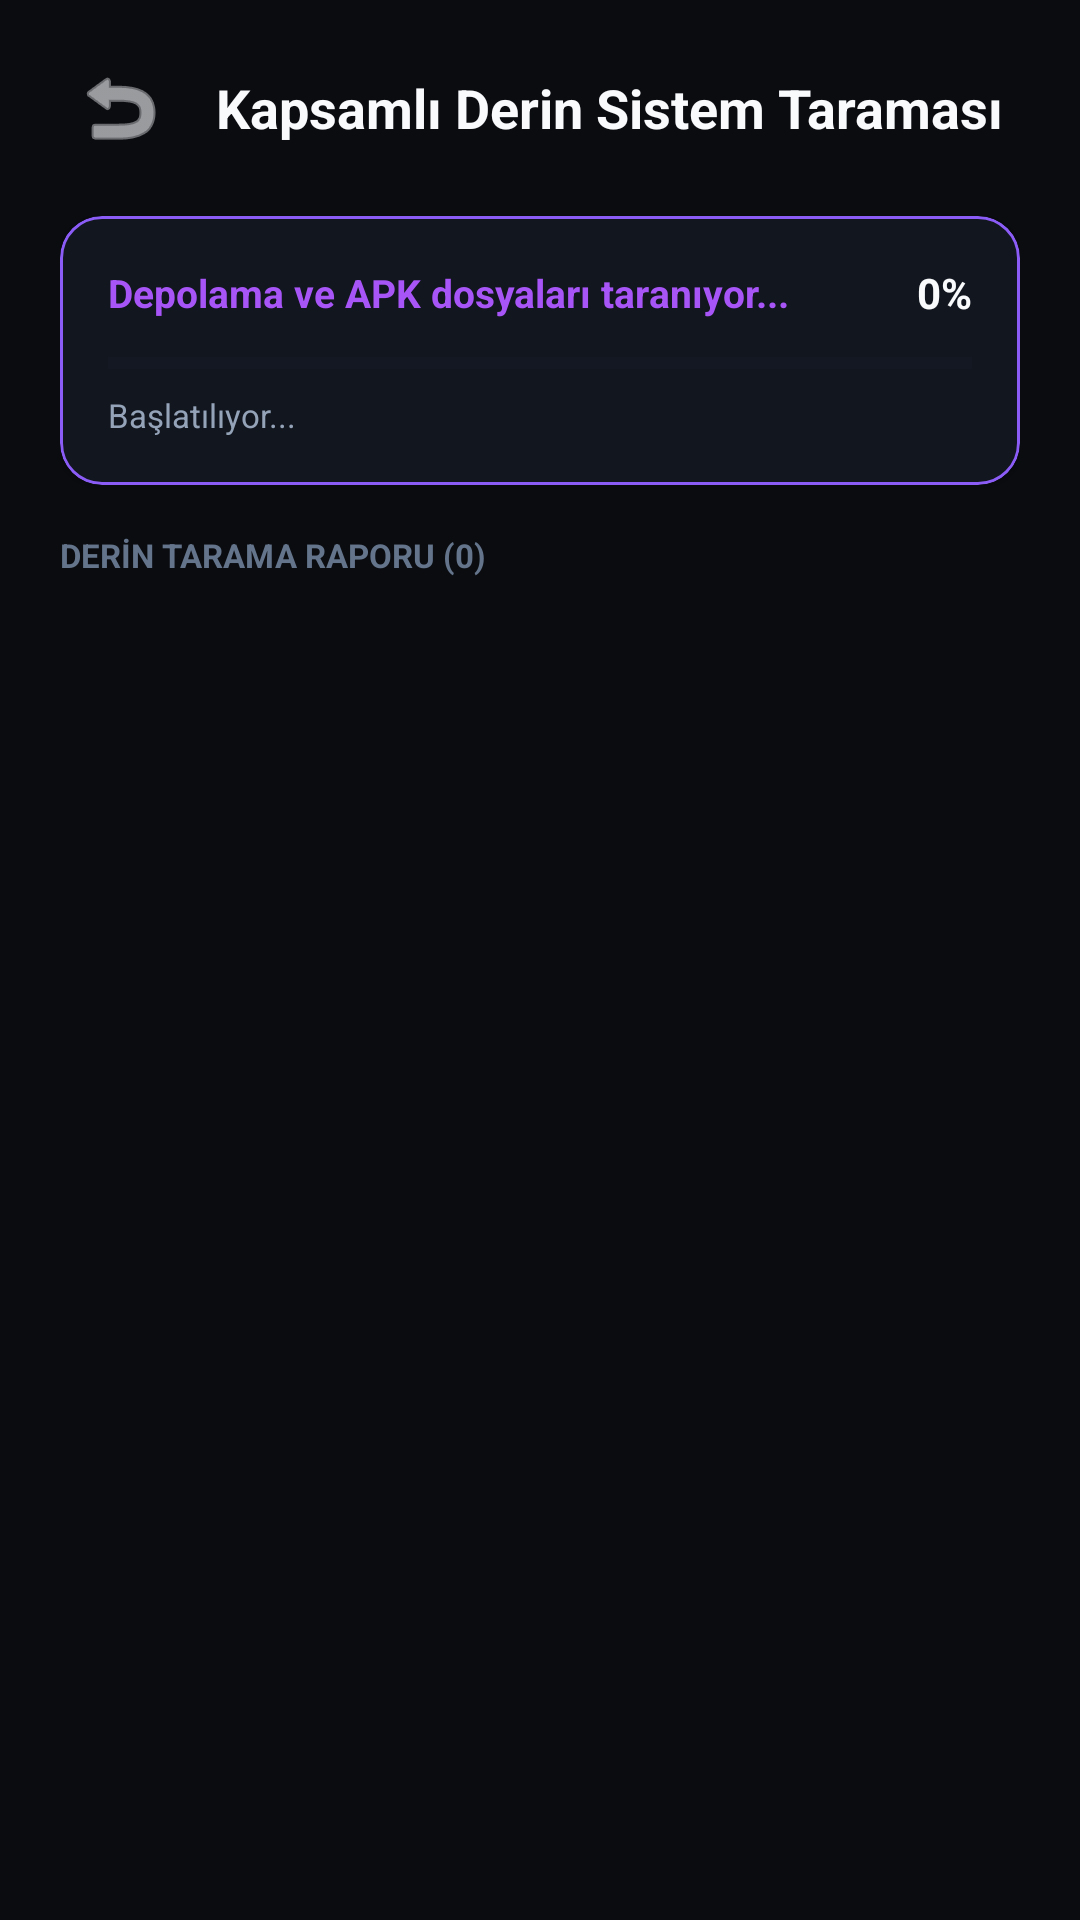

Icon click points for this 1080px×1920px phone screenshot, format point (x, y):
Back: point (121, 108)
